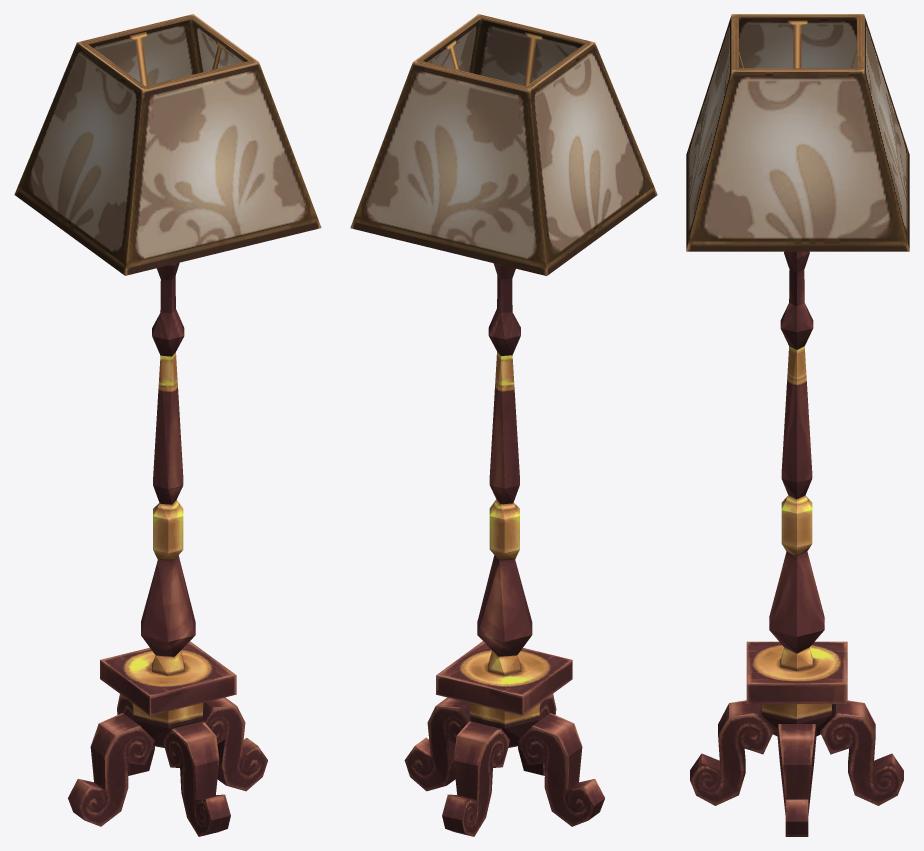
3 renders of one model, left to right at view 1: azimuth 30°, elevation 25°; view 2: azimuth 150°, elevation 25°; view 3: azimuth 270°, elevation 25°, orthographic.
Parts seen in each view (by area): view 1: s4studio_mesh_2; view 2: s4studio_mesh_2; view 3: s4studio_mesh_2.
Part boxes in pixels (box(x1,y1,x2,y2)): s4studio_mesh_2: box(14, 14, 321, 836); s4studio_mesh_2: box(350, 14, 657, 836); s4studio_mesh_2: box(686, 14, 909, 836).
Size of the model in its own units: 0.5444 by 1.99 by 0.5319.
1 material, 1 textured.
